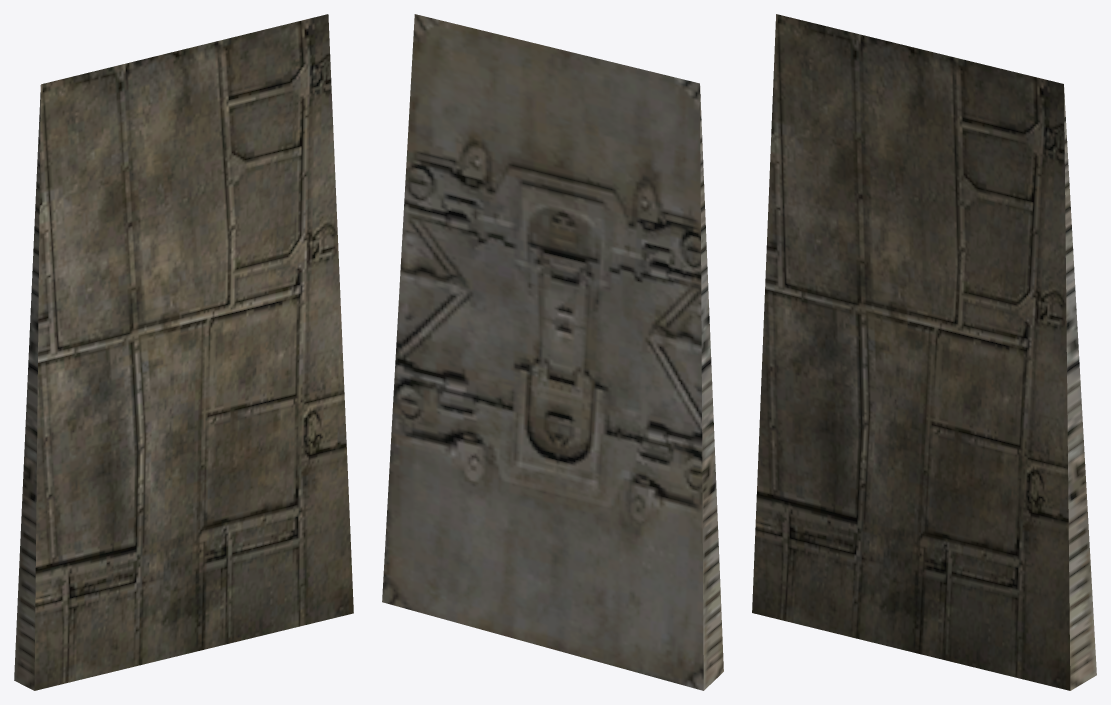
File: poi_all_escape_pod_door_l1.fbx
3 renders of one model, left to right at view 1: azimuth 30°, elevation 25°; view 2: azimuth 150°, elevation 25°; view 3: azimuth 330°, elevation 25°, orthographic.
Parts seen in each view (by area): view 1: mesh_node; view 2: mesh_node; view 3: mesh_node.
Boxes of the visible parts, x1=… form: mesh_node: x1=14, y1=14, x2=353, y2=690; mesh_node: x1=382, y1=14, x2=723, y2=690; mesh_node: x1=752, y1=14, x2=1096, y2=690.
Bounding box in the file's own units: 1.55 × 2.73 × 0.1712.
